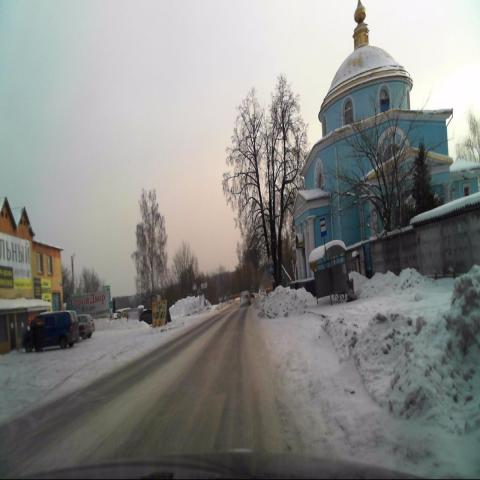5_16: (320, 217, 327, 237)
